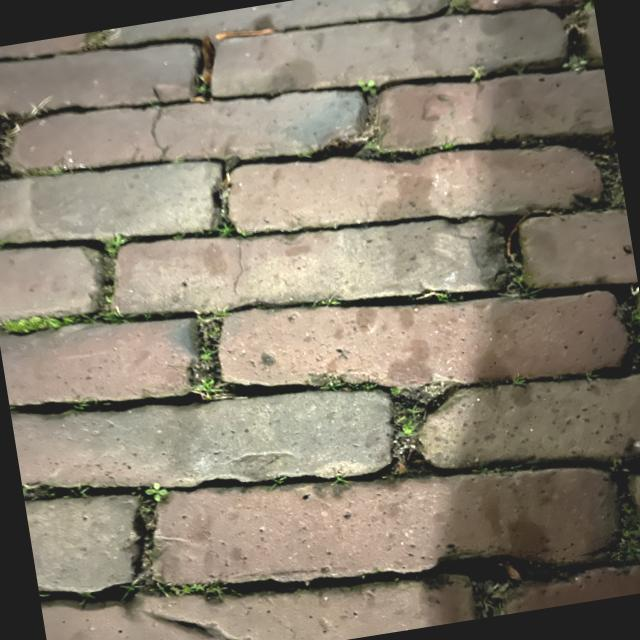pavement: (0, 6, 559, 163)
weed: (382, 378, 438, 481)
weedling: (320, 366, 461, 465), (361, 125, 465, 157)
